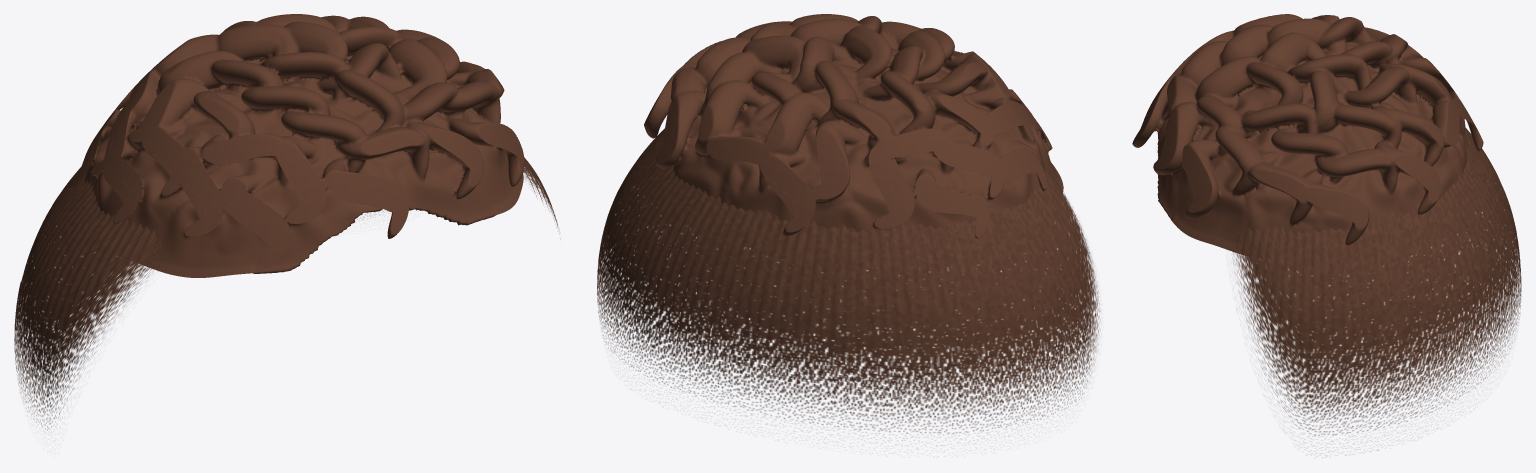
The model's file is Masculine-curly-top-beanie256-hair.glb.
The picture shows the model from 3 angles, left to right: view 1: azimuth 30°, elevation 25°; view 2: azimuth 150°, elevation 25°; view 3: azimuth 270°, elevation 25°; orthographic projection. The views are drawn at different scales.
Visible parts, largest first — view 1: 226 hair / Hair252 / sculpted curl groups, 226 hair / Hair256 / selected B sides; view 2: 226 hair / Hair256 / selected B sides, 226 hair / Hair252 / sculpted curl groups; view 3: 226 hair / Hair252 / sculpted curl groups, 226 hair / Hair256 / selected B sides.
Part boxes in pixels (x1=…): 226 hair / Hair252 / sculpted curl groups: x1=68, y1=14, x2=524, y2=277; 226 hair / Hair256 / selected B sides: x1=14, y1=157, x2=560, y2=430; 226 hair / Hair256 / selected B sides: x1=597, y1=128, x2=1100, y2=442; 226 hair / Hair252 / sculpted curl groups: x1=644, y1=14, x2=1063, y2=238; 226 hair / Hair252 / sculpted curl groups: x1=1132, y1=14, x2=1483, y2=255; 226 hair / Hair256 / selected B sides: x1=1230, y1=127, x2=1521, y2=455.
Size of the model in its own units: 0.972 by 0.665 by 0.7431.
Materials: 2 (1 with a texture image).
